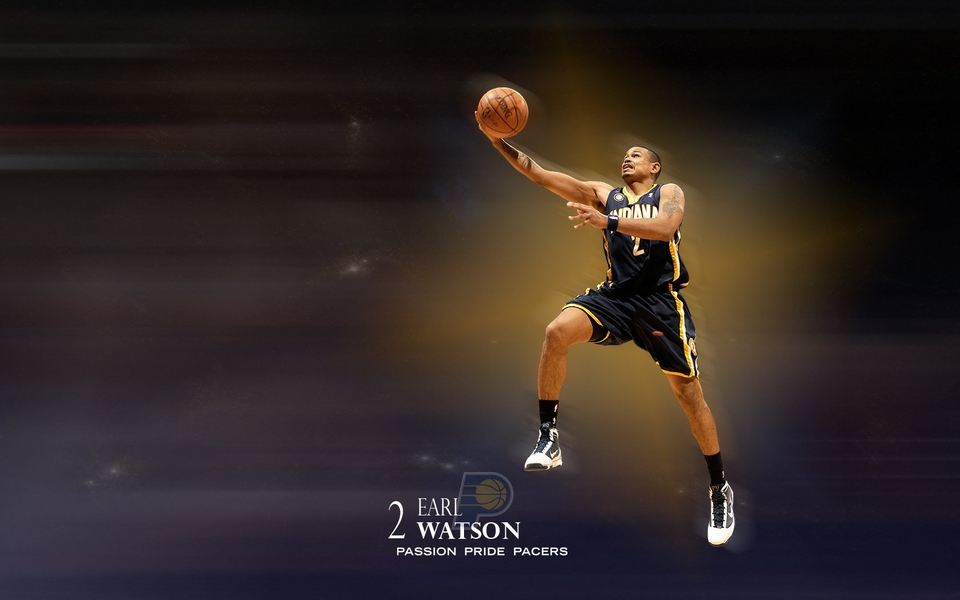ball: (475, 87, 532, 141), (473, 476, 509, 512)
